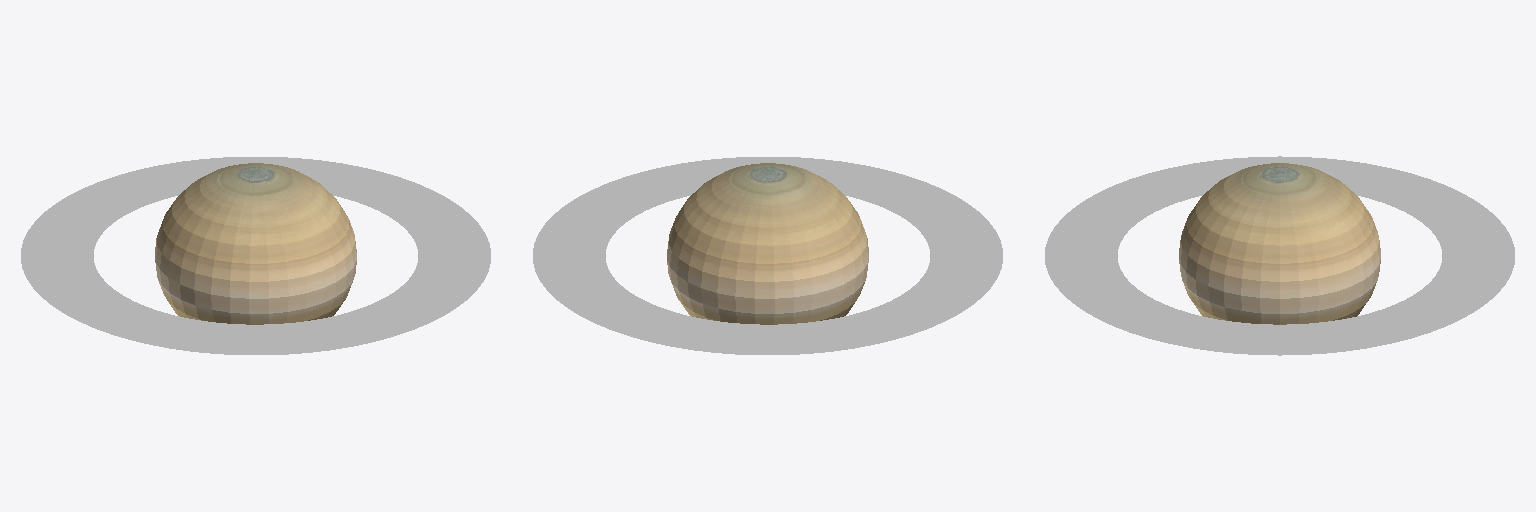
The picture shows the model from 3 angles: view 1: azimuth 30°, elevation 25°; view 2: azimuth 150°, elevation 25°; view 3: azimuth 270°, elevation 25°; orthographic projection.
Visible parts, largest first — view 1: Circle, Sphere; view 2: Circle, Sphere; view 3: Circle, Sphere.
Part boxes in pixels (left/top/right/bottom): Circle: left=21, top=157, right=490, bottom=354; Sphere: left=155, top=163, right=356, bottom=324; Circle: left=533, top=157, right=1002, bottom=354; Sphere: left=667, top=163, right=868, bottom=324; Circle: left=1045, top=156, right=1514, bottom=355; Sphere: left=1179, top=163, right=1380, bottom=324.
Size of the model in its own units: 6.96 by 2.7 by 6.96.
2 materials, 1 textured.